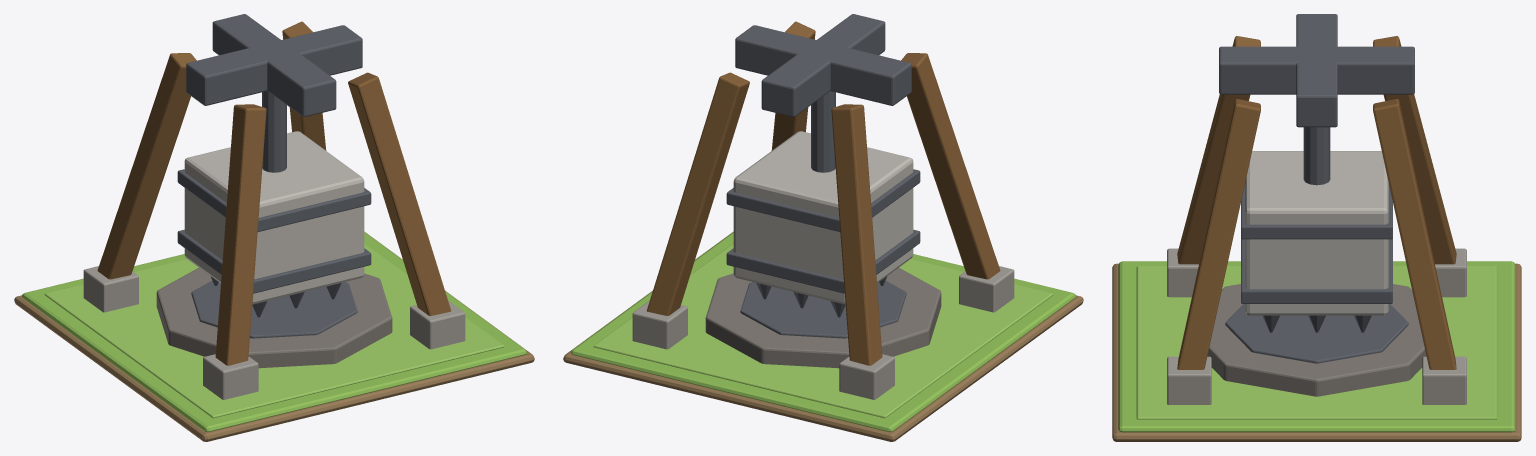
Rendered from crusher_lv2.glb.
3 renders of one model, left to right at view 1: azimuth 30°, elevation 25°; view 2: azimuth 150°, elevation 25°; view 3: azimuth 270°, elevation 25°, orthographic. The views are drawn at different scales.
Visible parts, largest first — view 1: Base_Inner, CrusherStoneBlock, Base_Grass, CrusherAnvilStone, CrusherLeg_-1_-1, CrusherLeg_1_-1, CrusherLeg_-1_1, CrusherTopFrameX, Base_Dirt, CrusherTopFrameY, CrusherTargetRing, CrusherBandLower (+6 smaller); view 2: Base_Inner, CrusherStoneBlock, Base_Grass, CrusherAnvilStone, CrusherLeg_-1_1, CrusherLeg_1_1, CrusherLeg_-1_-1, CrusherTopFrameX, Base_Dirt, CrusherTopFrameY, CrusherTargetRing, CrusherBandLower (+6 smaller); view 3: Base_Inner, CrusherStoneBlock, Base_Grass, CrusherAnvilStone, CrusherLeg_1_1, CrusherLeg_1_-1, CrusherTopFrameY, CrusherTargetRing, Base_Dirt, CrusherTopFrameX, CrusherLeg_-1_1, CrusherLeg_-1_-1 (+7 smaller).
Boxes of the visible parts, box(x1,y1,x2,y2) form: Base_Inner: box(44, 243, 504, 418); CrusherStoneBlock: box(184, 131, 364, 304); Base_Grass: box(22, 232, 526, 431); CrusherAnvilStone: box(156, 268, 392, 368); CrusherLeg_-1_-1: box(215, 104, 266, 365); CrusherLeg_1_-1: box(348, 72, 451, 315); CrusherLeg_-1_1: box(97, 53, 196, 279); CrusherTopFrameX: box(186, 25, 362, 105); Base_Dirt: box(14, 231, 534, 441); CrusherTopFrameY: box(212, 14, 336, 116); CrusherTargetRing: box(191, 280, 357, 338); CrusherBandLower: box(177, 229, 371, 293); Base_Inner: box(593, 243, 1053, 418); CrusherStoneBlock: box(733, 131, 913, 304); Base_Grass: box(571, 232, 1075, 431); CrusherAnvilStone: box(705, 268, 941, 368); CrusherLeg_-1_1: box(831, 104, 882, 365); CrusherLeg_1_1: box(646, 72, 749, 315); CrusherLeg_-1_-1: box(901, 53, 1000, 279); CrusherTopFrameX: box(735, 25, 911, 105); Base_Dirt: box(563, 231, 1083, 441); CrusherTopFrameY: box(761, 14, 885, 116); CrusherTargetRing: box(740, 280, 906, 338); CrusherBandLower: box(726, 229, 920, 293); Base_Inner: box(1136, 266, 1497, 419); CrusherStoneBlock: box(1245, 151, 1388, 315); Base_Grass: box(1118, 261, 1515, 432); CrusherAnvilStone: box(1207, 284, 1426, 396); CrusherLeg_1_1: box(1373, 99, 1456, 369); CrusherLeg_1_-1: box(1177, 99, 1260, 369); CrusherTopFrameY: box(1219, 46, 1414, 94); CrusherTargetRing: box(1225, 304, 1408, 363); Base_Dirt: box(1112, 263, 1521, 441); CrusherTopFrameX: box(1296, 14, 1337, 127); CrusherLeg_-1_1: box(1373, 36, 1456, 264); CrusherLeg_-1_-1: box(1177, 36, 1260, 264).
Size of the model in its own units: 2.76 by 2.25 by 2.76.
